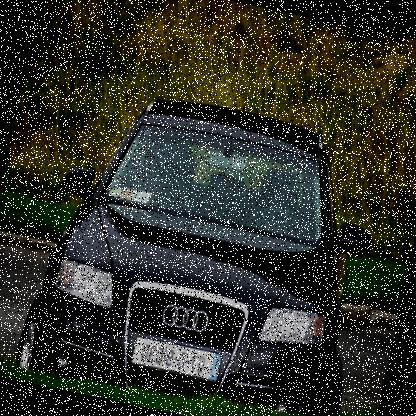Car: (24, 72, 395, 415)
